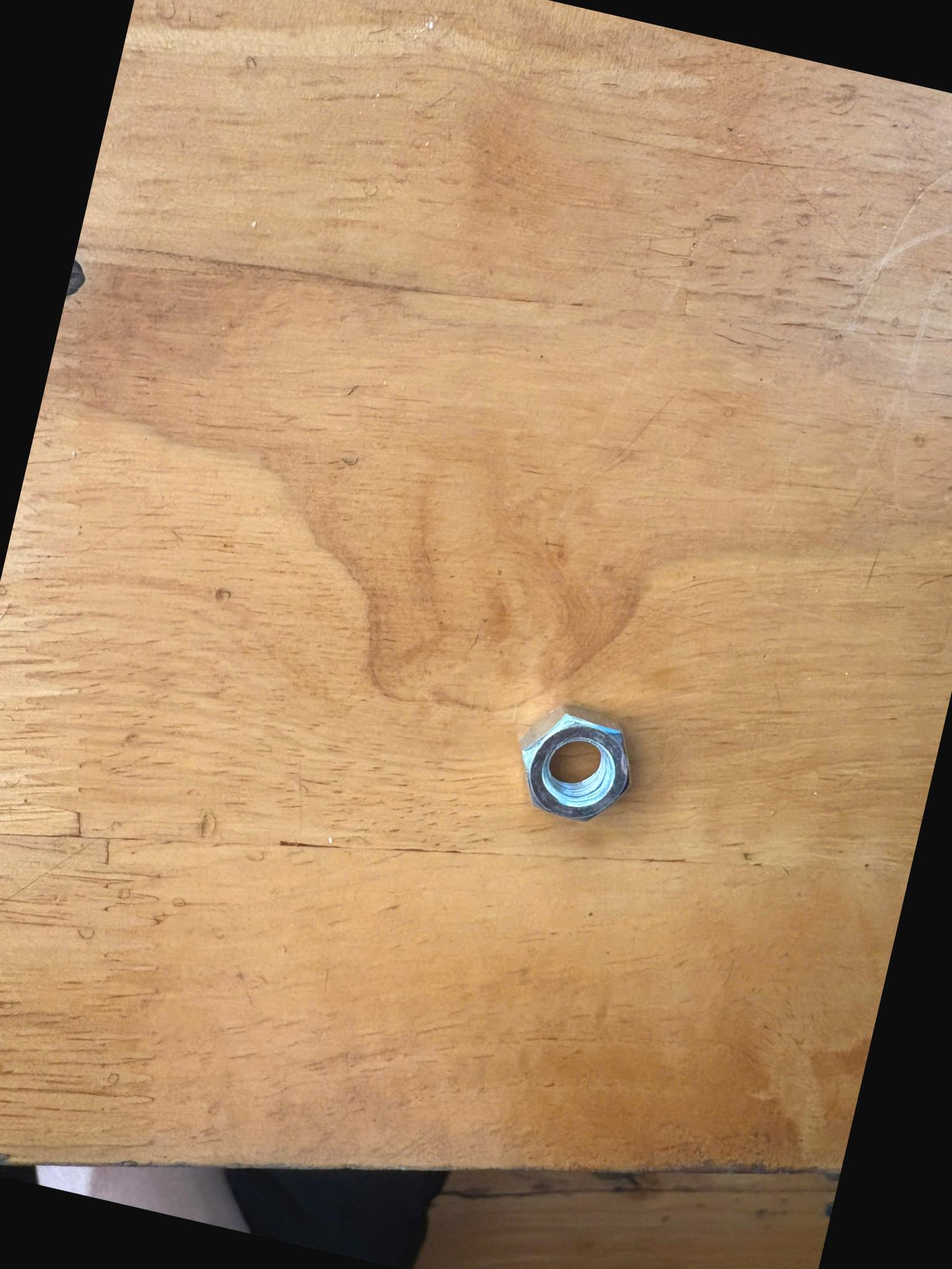nut: (494, 687, 655, 860)
